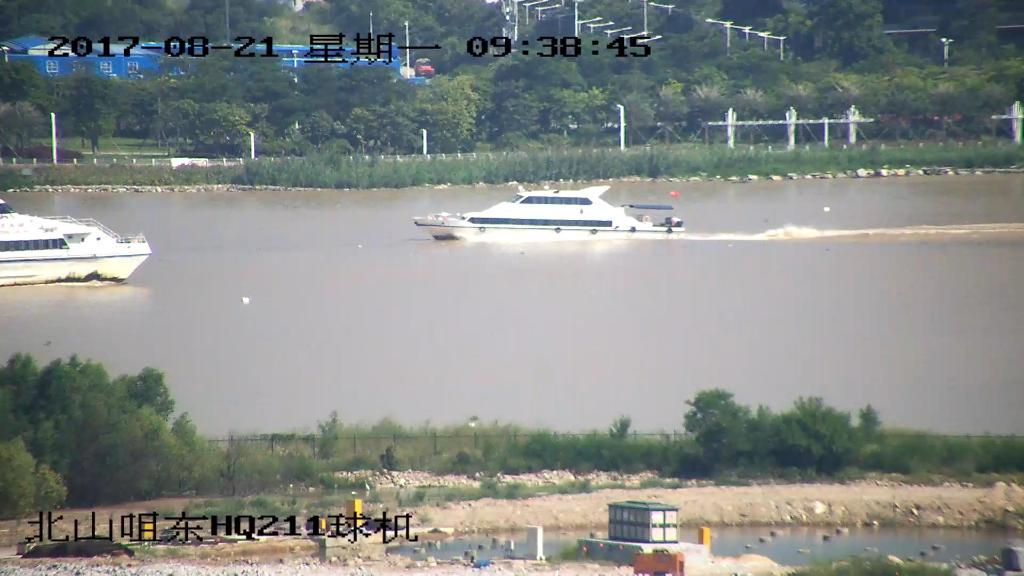PassengerShip: (396, 170, 698, 248), (0, 186, 160, 294)
